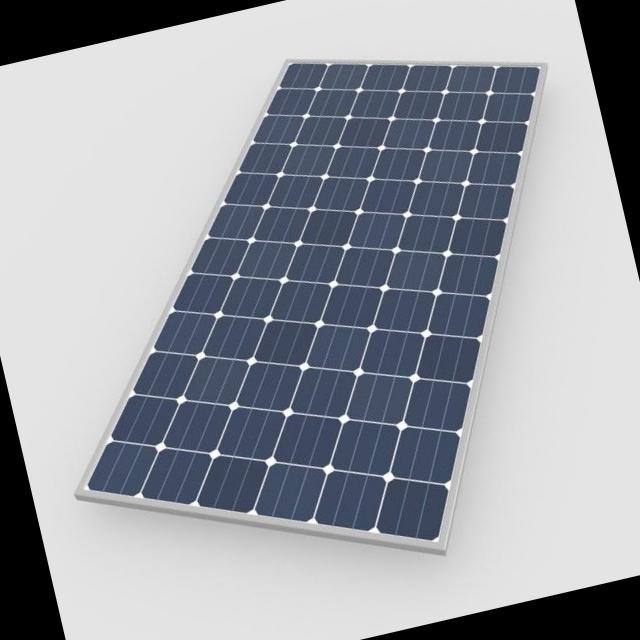no faulty: (89, 64, 537, 531)
